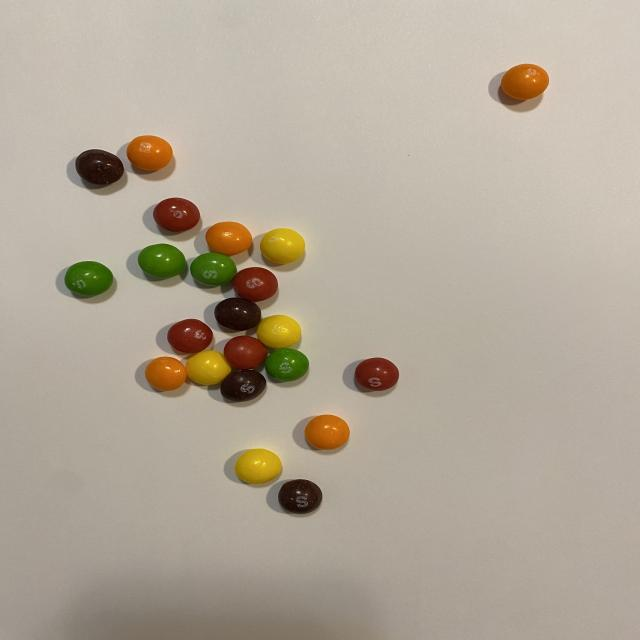smartie: (501, 63, 550, 99), (63, 261, 112, 296), (74, 149, 123, 184), (137, 243, 185, 278), (259, 228, 305, 264), (205, 221, 252, 256), (152, 197, 199, 232), (234, 449, 281, 484), (126, 135, 172, 170), (189, 252, 236, 286), (214, 297, 261, 331), (304, 415, 349, 450), (232, 267, 277, 302), (166, 319, 212, 353), (185, 351, 231, 385), (278, 480, 322, 515), (264, 348, 309, 382), (256, 315, 301, 349), (223, 336, 267, 370), (354, 358, 399, 391), (220, 370, 265, 402), (144, 357, 186, 391)
